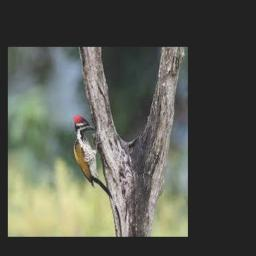Woodpecker: (74, 116, 113, 197)
